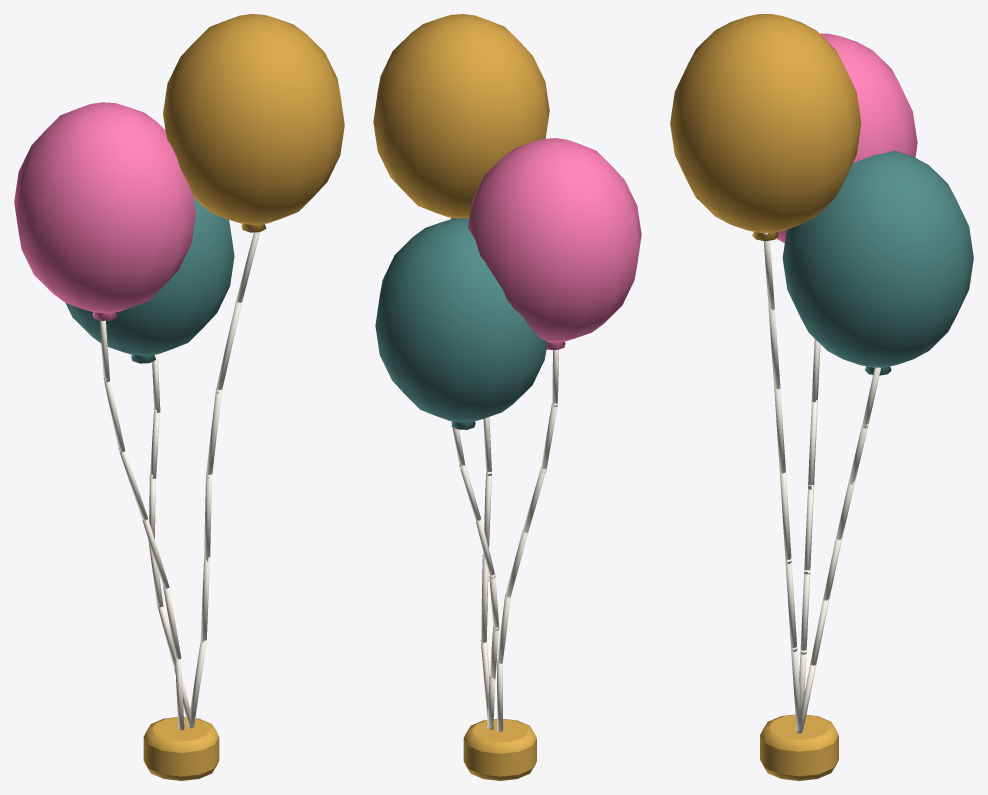
The model's file is balloons.glb.
3 renders of one model, left to right at view 1: azimuth 30°, elevation 25°; view 2: azimuth 150°, elevation 25°; view 3: azimuth 270°, elevation 25°, orthographic. The views are drawn at different scales.
Visible parts, largest first — view 1: balloons; view 2: balloons; view 3: balloons.
Boxes of the visible parts, bbox=[...] form: balloons: bbox=[14, 14, 344, 780]; balloons: bbox=[373, 14, 641, 780]; balloons: bbox=[670, 14, 973, 780].
Size of the model in its own units: 0.2957 by 0.7603 by 0.27.
